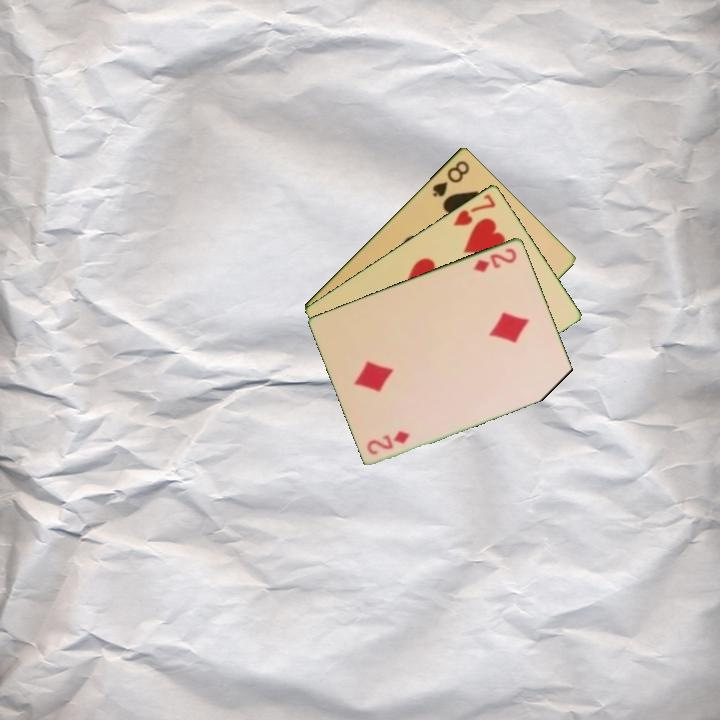2d: (470, 244, 520, 275), (363, 427, 412, 457)
7h: (449, 190, 499, 229)
8s: (429, 157, 473, 199)
